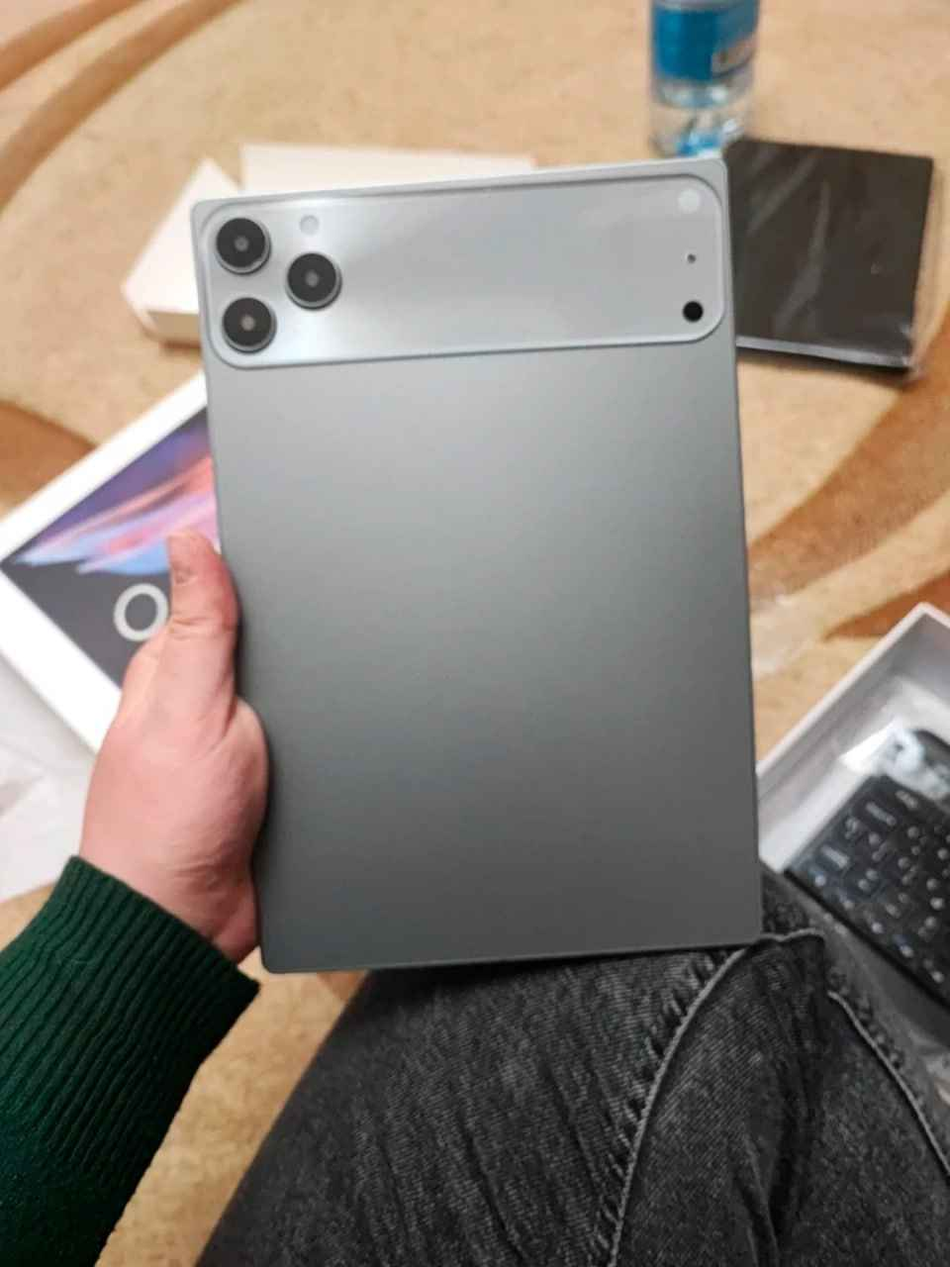tablet: (191, 151, 769, 980)
